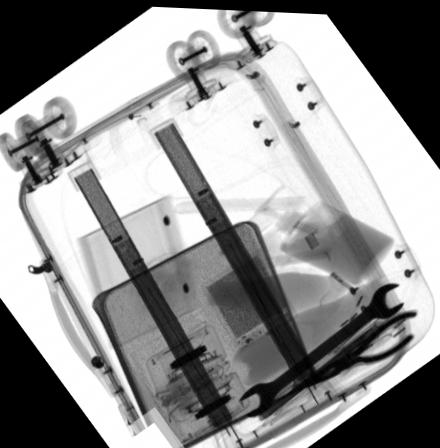Pliers: (305, 304, 418, 387)
Powerbank: (199, 246, 299, 351)
Wrench: (234, 279, 402, 416)
